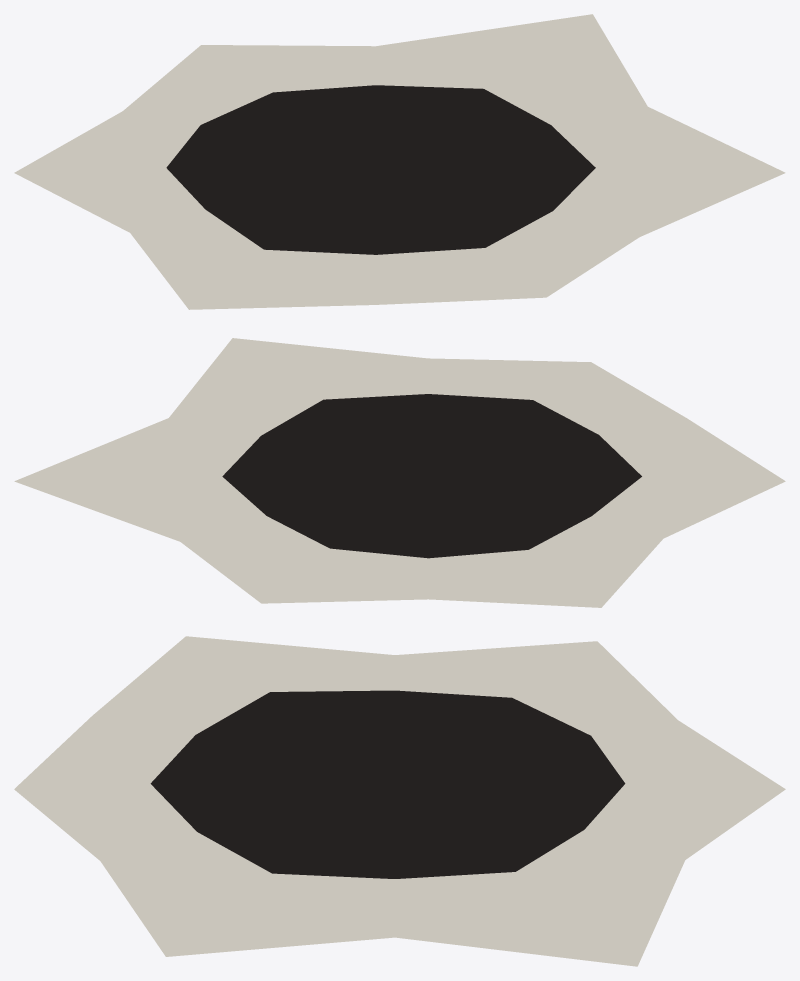
The model's file is hole_wall_05.obj.
3 views of the same model, one above another, from view 1: azimuth 30°, elevation 25°; view 2: azimuth 150°, elevation 25°; view 3: azimuth 270°, elevation 25° (orthographic). The views are drawn at different scales.
Bounding box in the file's own units: 0.05 × 0.0004 × 0.0493.
